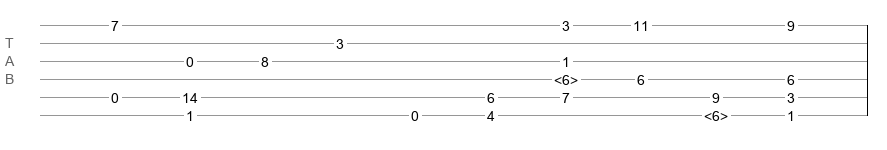0: (111, 90, 119, 100), (186, 54, 194, 64), (411, 108, 419, 118)
1: (186, 108, 194, 118), (562, 54, 570, 64), (787, 108, 795, 118)
11: (633, 18, 649, 28)
14: (182, 90, 198, 100)
3: (336, 36, 344, 46), (562, 18, 570, 28), (787, 90, 795, 100)
4: (487, 108, 495, 118)
6: (487, 90, 495, 100), (637, 72, 645, 82), (787, 72, 795, 82)
7: (111, 18, 119, 28), (562, 90, 570, 100)
8: (261, 54, 269, 64)
9: (712, 90, 720, 100), (787, 18, 795, 28)
harmonic: (554, 72, 578, 82), (704, 108, 728, 118)
